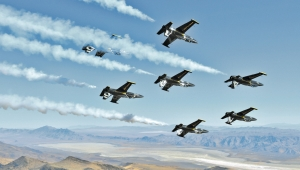flight: (155, 18, 200, 48), (99, 81, 144, 105), (153, 69, 195, 93), (81, 34, 122, 58), (224, 71, 268, 90), (171, 118, 210, 139), (221, 106, 259, 126)
